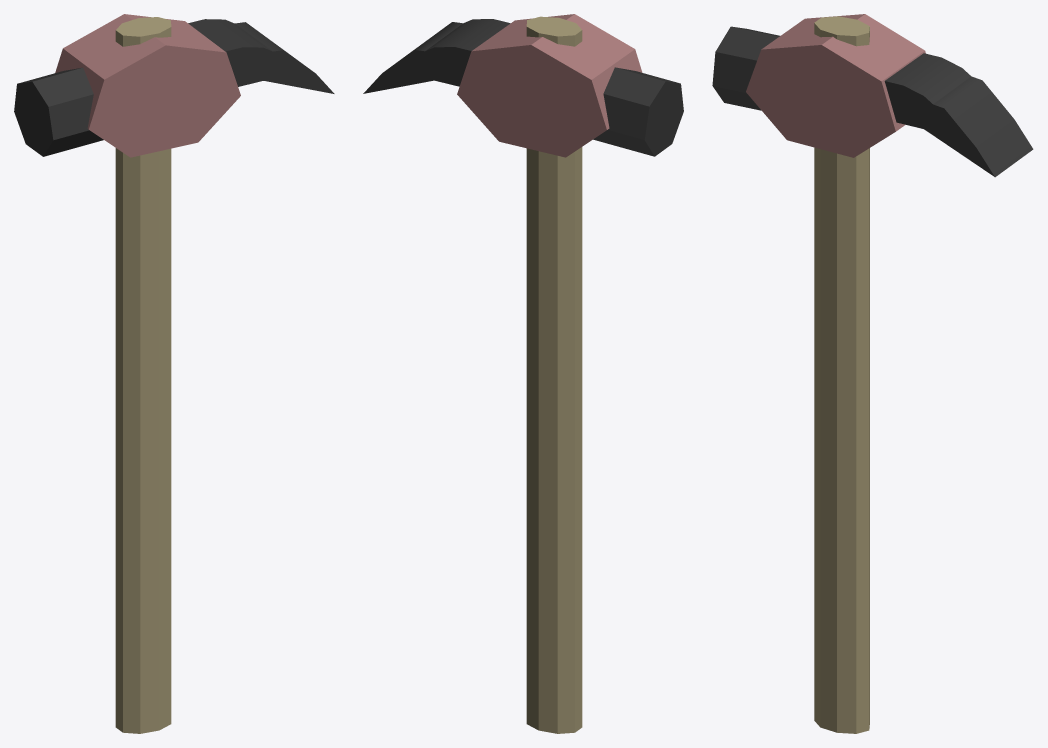
The model's file is HammerModel.fbx.
The picture shows the model from 3 angles, left to right: view 1: azimuth 30°, elevation 25°; view 2: azimuth 150°, elevation 25°; view 3: azimuth 330°, elevation 25°; orthographic projection.
Visible parts, largest first — view 1: pCube2; view 2: pCube2; view 3: pCube2.
Part boxes in pixels (<box>): pCube2: <box>14,14,334,733</box>; pCube2: <box>363,14,683,733</box>; pCube2: <box>712,14,1033,733</box>.
Bounding box in the file's own units: 0.8881 × 2.09 × 0.2377.
